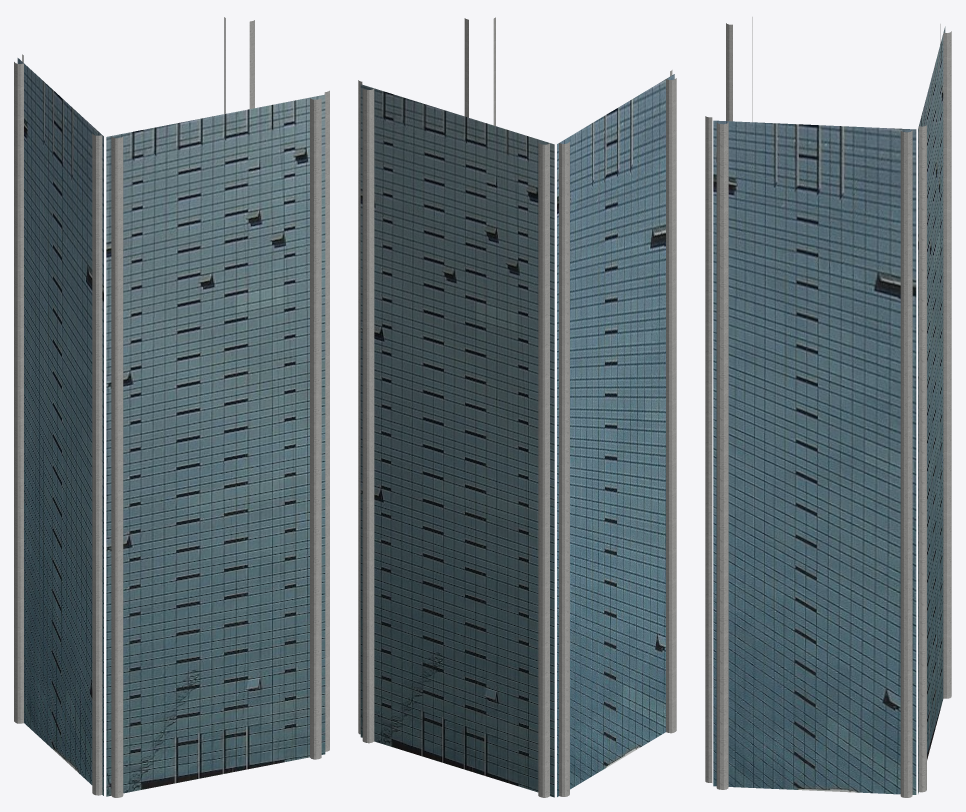
The picture shows the model from 3 angles, left to right: view 1: azimuth 30°, elevation 25°; view 2: azimuth 150°, elevation 25°; view 3: azimuth 270°, elevation 25°; orthographic projection.
Parts seen in each view (by area): view 1: Surveyed facade, Projecting piers; view 2: Surveyed facade, Projecting piers; view 3: Surveyed facade, Projecting piers.
Boxes of the visible parts, x1,y1,x2,y2 form: Surveyed facade: (17, 58, 325, 796); Projecting piers: (14, 17, 329, 797); Surveyed facade: (360, 74, 674, 797); Projecting piers: (358, 17, 676, 797); Surveyed facade: (713, 26, 945, 794); Projecting piers: (705, 17, 951, 797).
Size of the model in its own units: 35.04 by 92.01 by 30.87.
2 materials, 2 textured.
